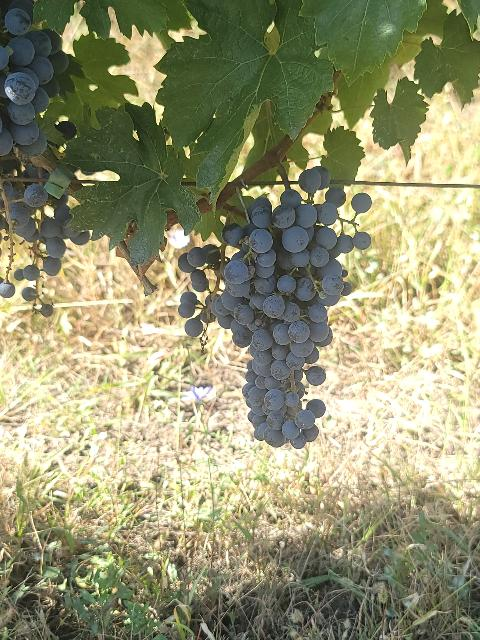grapes: (179, 225, 332, 449), (243, 166, 371, 306)
